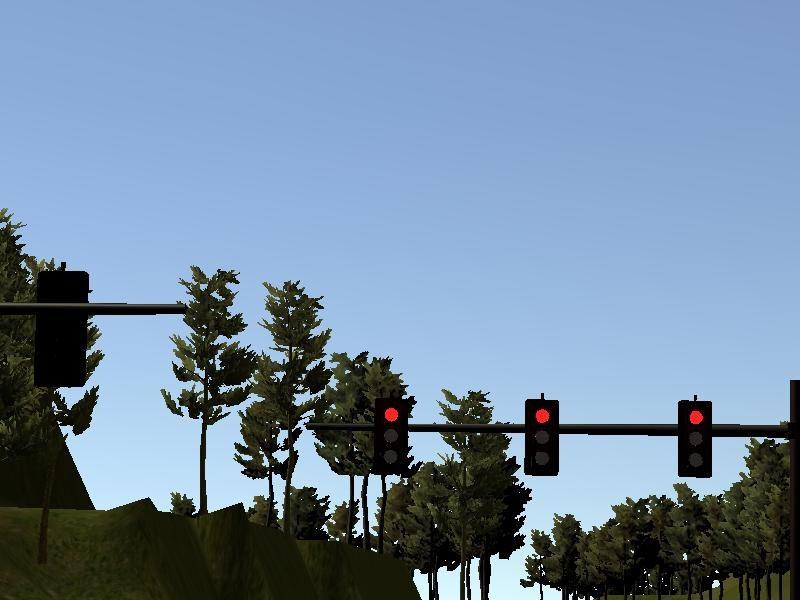red: (675, 397, 716, 483), (523, 393, 563, 479), (370, 394, 411, 476)
